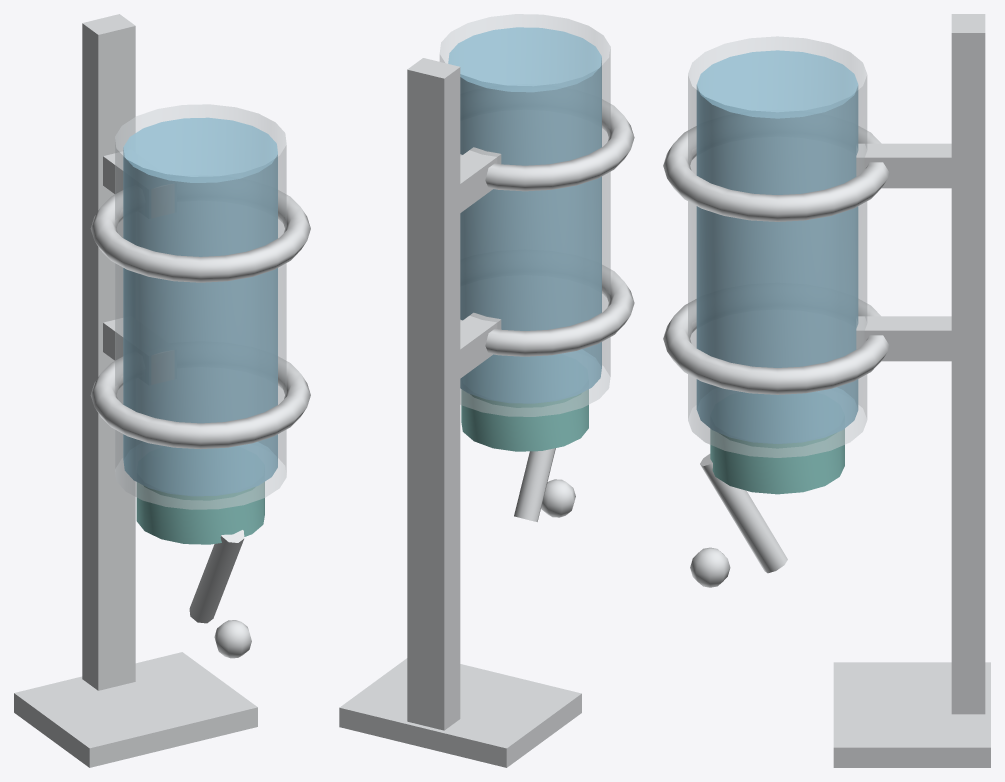
File: water_bottle.glb
3 views of the same model, side by side, from view 1: azimuth 30°, elevation 25°; view 2: azimuth 150°, elevation 25°; view 3: azimuth 270°, elevation 25° (orthographic). The views are drawn at different scales.
Visible parts, largest first — view 1: holder, bottle, water_level, bottle_cap, nozzle; view 2: holder, bottle, water_level, bottle_cap, nozzle; view 3: bottle, holder, water_level, bottle_cap, nozzle.
Boxes of the visible parts, x1,y1,x2,y2 form: holder: (14, 14, 310, 767); bottle: (115, 104, 286, 509); water_level: (123, 117, 277, 496); bottle_cap: (136, 482, 264, 544); nozzle: (189, 530, 251, 658); holder: (339, 58, 634, 767); bottle: (439, 14, 610, 416); water_level: (448, 27, 601, 403); bottle_cap: (461, 389, 588, 451); nozzle: (514, 448, 575, 521); bottle: (688, 36, 867, 457); holder: (663, 14, 990, 767); water_level: (696, 50, 858, 443); bottle_cap: (710, 429, 844, 494); nozzle: (690, 454, 787, 587).
Bounding box in the file's own units: 0.204 × 0.69 × 0.292.
